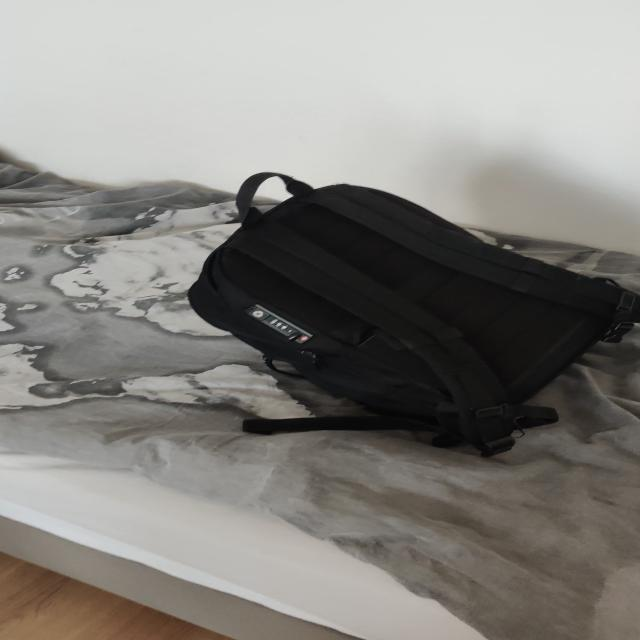backpack: (172, 166, 634, 458)
